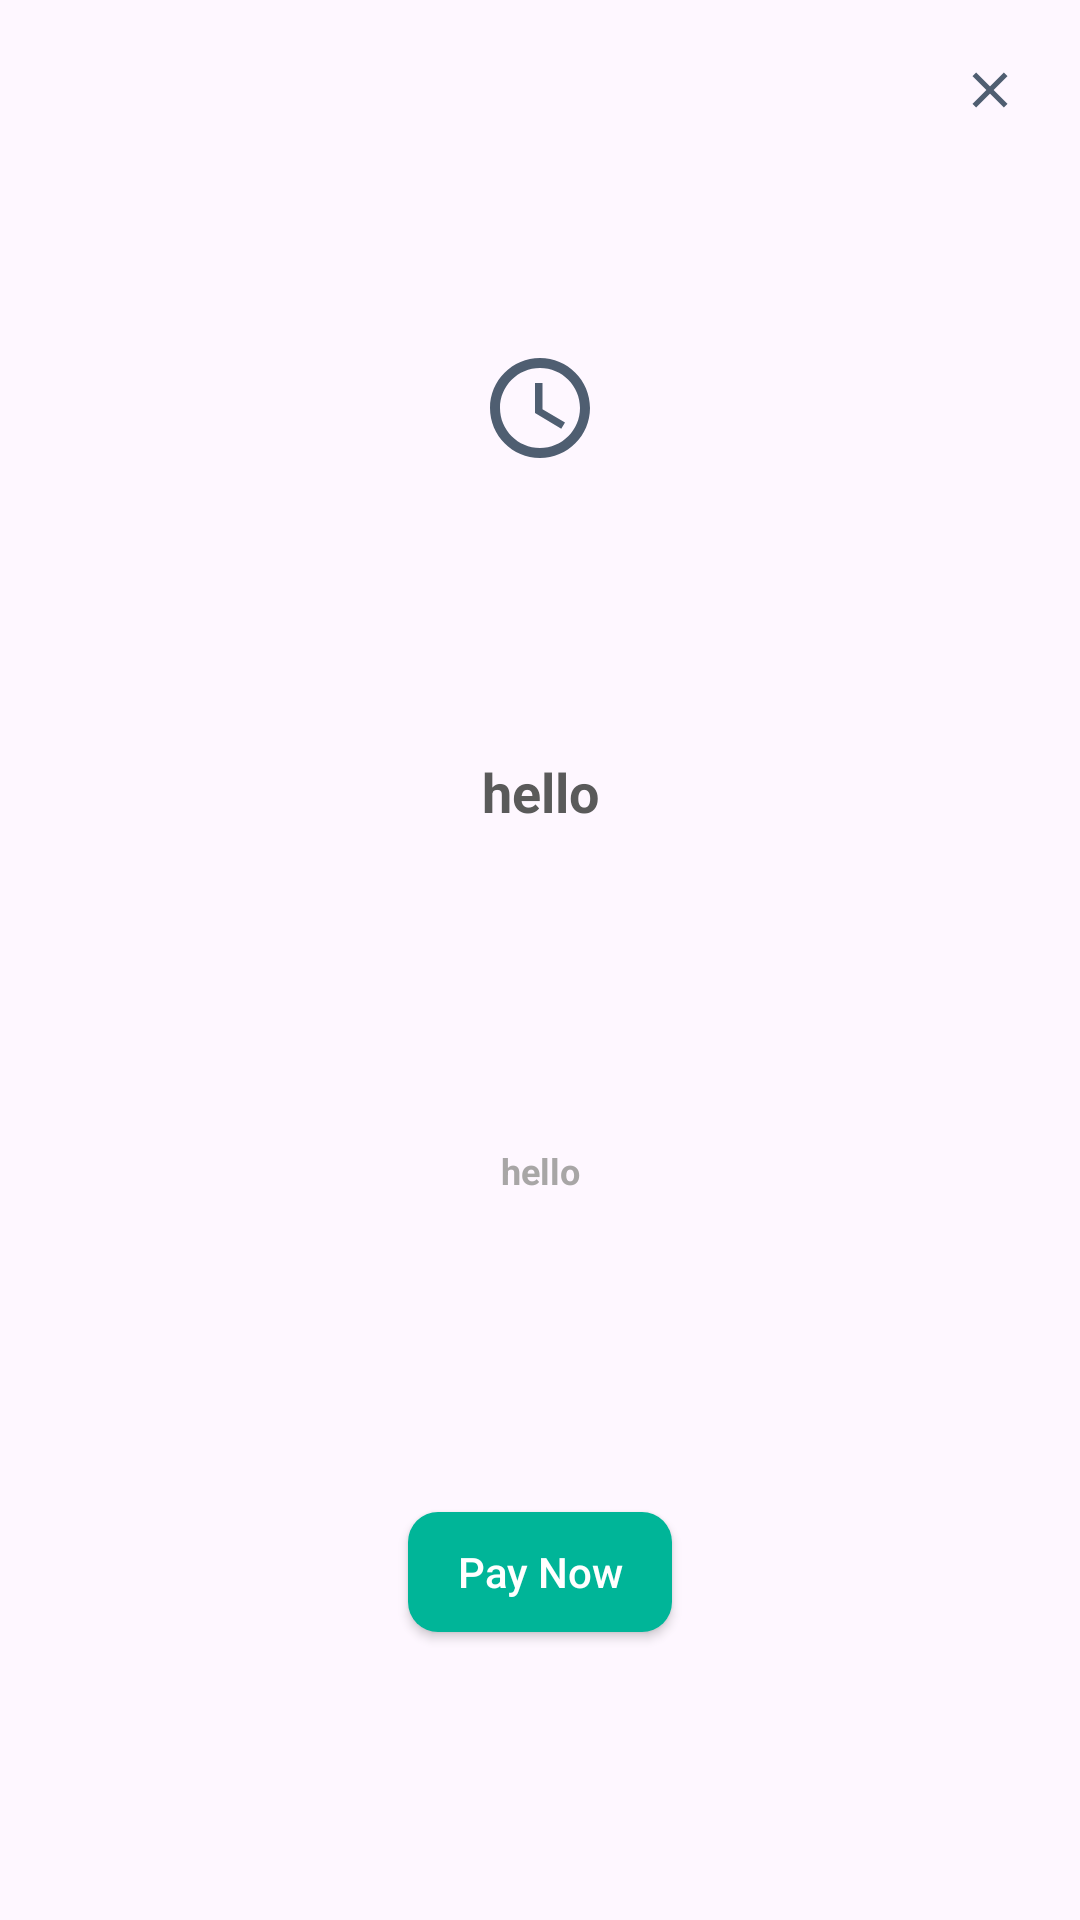

Icons on this 1080px×1920px Android screen, each with its box as region(x1, y1, x2, y2):
access time: region(490, 358, 590, 458)
close: region(972, 72, 1008, 108)
